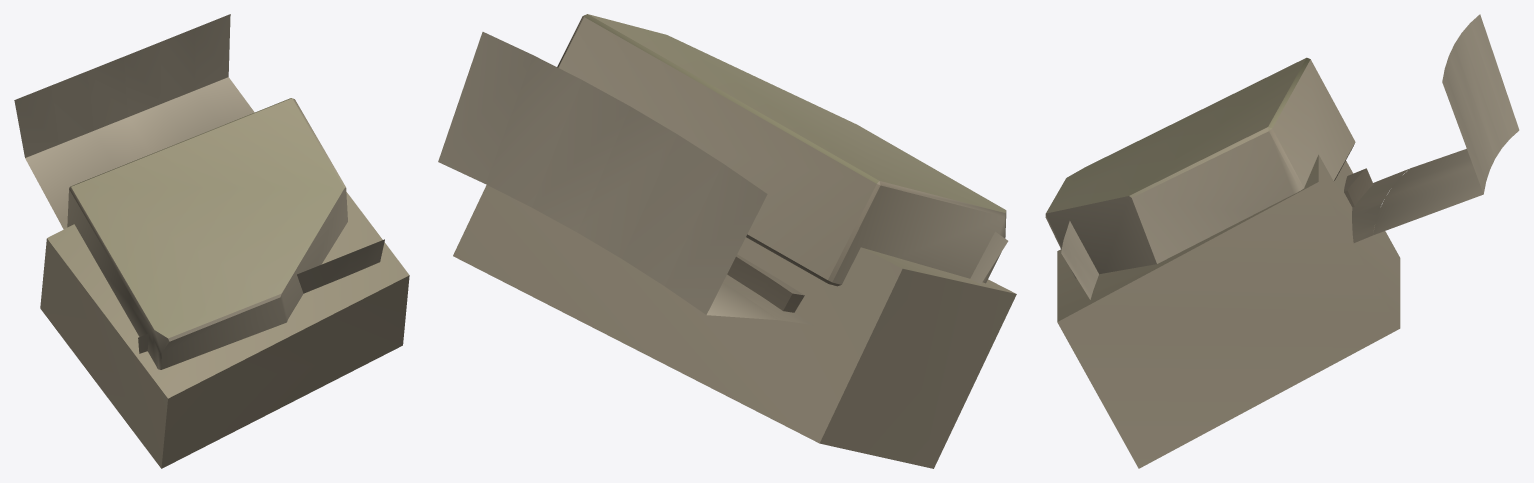
Rendered from dome_slab.glb.
3 views of the same model, side by side, from view 1: azimuth 30°, elevation 25°; view 2: azimuth 150°, elevation 25°; view 3: azimuth 270°, elevation 25° (orthographic). The views are drawn at different scales.
Parts seen in each view (by area): view 1: dome_slab, dome_slab_far; view 2: dome_slab, dome_slab_far; view 3: dome_slab_far, dome_slab.
Part boxes in pixels (bbox=[...]): dome_slab: bbox=[14, 14, 384, 369]; dome_slab_far: bbox=[40, 192, 409, 468]; dome_slab: bbox=[438, 14, 1008, 325]; dome_slab_far: bbox=[453, 185, 1016, 468]; dome_slab_far: bbox=[1057, 154, 1400, 468]; dome_slab: bbox=[1045, 14, 1519, 299].
Bounding box in the file's own units: 10.42 × 11.28 × 11.14.
